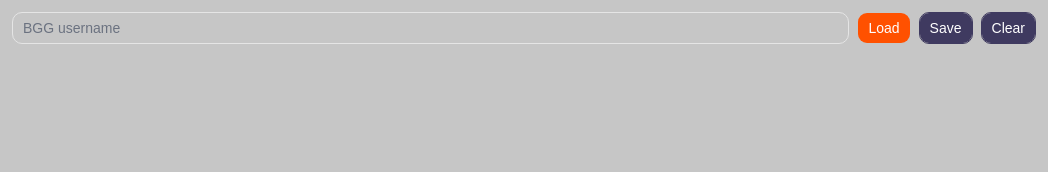
UsernameForm › Clear button › Given a validation message is shown, When the user clicks Clear, Then the validation message is dismissed
The width and height of the screenshot is (1048, 172).
Note: Trigger a validation message first
Click the button "Load": (884, 28) [858,12,911,44]
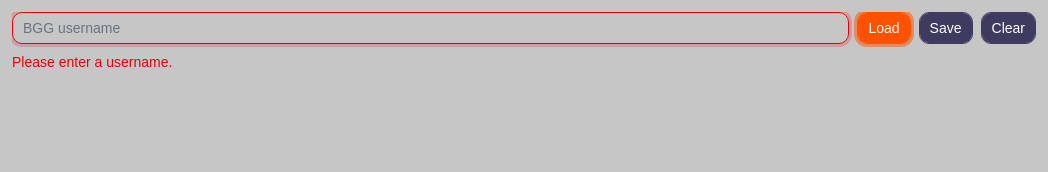
Check: the message "Please enter a username." is shown, box [12,54,172,70]
Click the button "Clear": (1008, 28) [980,12,1036,44]
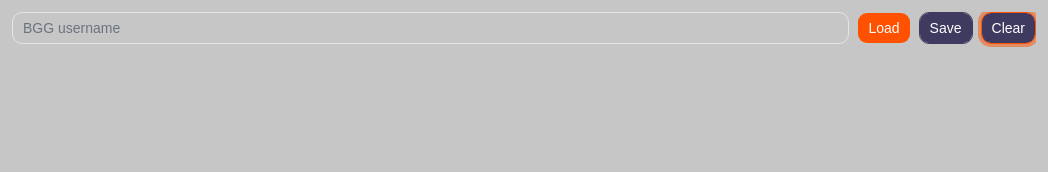
Check: the message "Please enter a username." is gone
